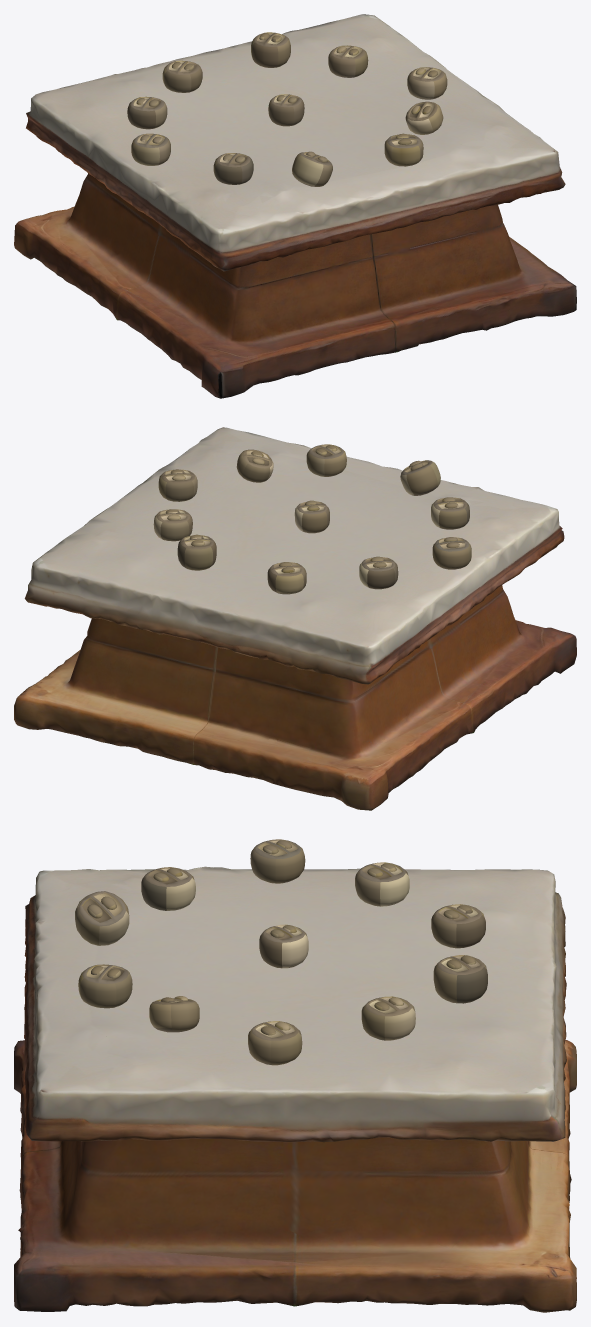
Rendered from benda20.glb.
The picture shows the model from 3 angles, top to bottom: view 1: azimuth 30°, elevation 25°; view 2: azimuth 150°, elevation 25°; view 3: azimuth 270°, elevation 25°; orthographic projection. The views are drawn at different scales.
Parts seen in each view (by area): view 1: Mesh_0, Cube.008, Cube, Cube.010, Cube.004, Cube.012, Cube.003, Cube.006, Cube.009, Cube.001, Cube.011, Cube.005; view 2: Mesh_0, Cube.008, Cube, Cube.012, Cube.003, Cube.004, Cube.010, Cube.006, Cube.001, Cube.009, Cube.011, Cube.005; view 3: Mesh_0, Cube, Cube.008, Cube.003, Cube.009, Cube.012, Cube.004, Cube.006, Cube.010, Cube.001, Cube.005, Cube.011.
Boxes of the visible parts, bbox=[...] form: Mesh_0: bbox=[14, 14, 576, 398]; Cube.008: bbox=[251, 32, 290, 67]; Cube: bbox=[292, 151, 332, 186]; Cube.010: bbox=[407, 67, 447, 99]; Cube.004: bbox=[127, 96, 167, 129]; Cube.012: bbox=[384, 133, 423, 166]; Cube.003: bbox=[131, 133, 170, 165]; Cube.006: bbox=[162, 60, 202, 92]; Cube.009: bbox=[328, 45, 368, 77]; Cube.001: bbox=[213, 153, 253, 184]; Cube.011: bbox=[405, 101, 443, 134]; Cube.005: bbox=[268, 94, 304, 126]; Mesh_0: bbox=[14, 427, 576, 810]; Cube.008: bbox=[177, 534, 216, 570]; Cube: bbox=[400, 460, 440, 495]; Cube.012: bbox=[306, 444, 346, 476]; Cube.003: bbox=[432, 537, 471, 569]; Cube.004: bbox=[359, 556, 398, 589]; Cube.010: bbox=[158, 469, 197, 501]; Cube.006: bbox=[267, 562, 306, 594]; Cube.001: bbox=[431, 497, 469, 529]; Cube.009: bbox=[153, 509, 192, 541]; Cube.011: bbox=[236, 449, 273, 482]; Cube.005: bbox=[294, 500, 329, 533]; Mesh_0: bbox=[14, 866, 576, 1312]; Cube: bbox=[75, 891, 129, 945]; Cube.008: bbox=[433, 955, 487, 1003]; Cube.003: bbox=[250, 839, 305, 883]; Cube.009: bbox=[361, 996, 415, 1040]; Cube.012: bbox=[78, 964, 132, 1008]; Cube.004: bbox=[355, 862, 409, 906]; Cube.006: bbox=[431, 904, 485, 948]; Cube.010: bbox=[248, 1021, 302, 1065]; Cube.001: bbox=[141, 867, 195, 910]; Cube.005: bbox=[259, 924, 308, 968]; Cube.011: bbox=[149, 996, 199, 1032].
Size of the model in its own units: 2.77 by 1.42 by 2.77.
2 materials, 2 textured.
